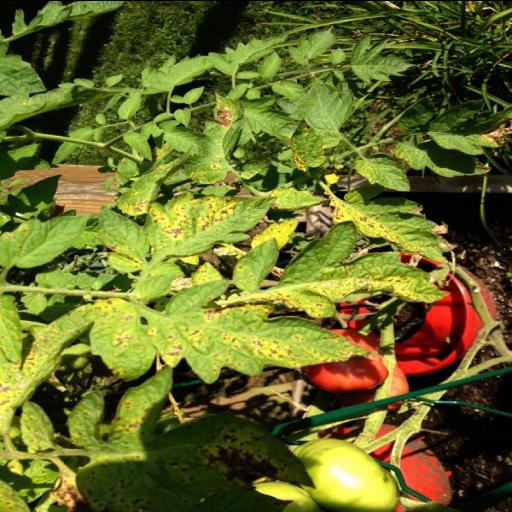disease_tomato: (67, 364, 315, 512), (88, 271, 374, 385), (264, 220, 450, 318), (328, 182, 450, 264), (144, 188, 272, 256), (182, 90, 244, 184), (114, 147, 193, 214), (0, 212, 92, 268), (97, 205, 151, 271), (230, 237, 280, 291), (352, 150, 412, 190), (288, 118, 328, 171), (18, 398, 58, 450)
